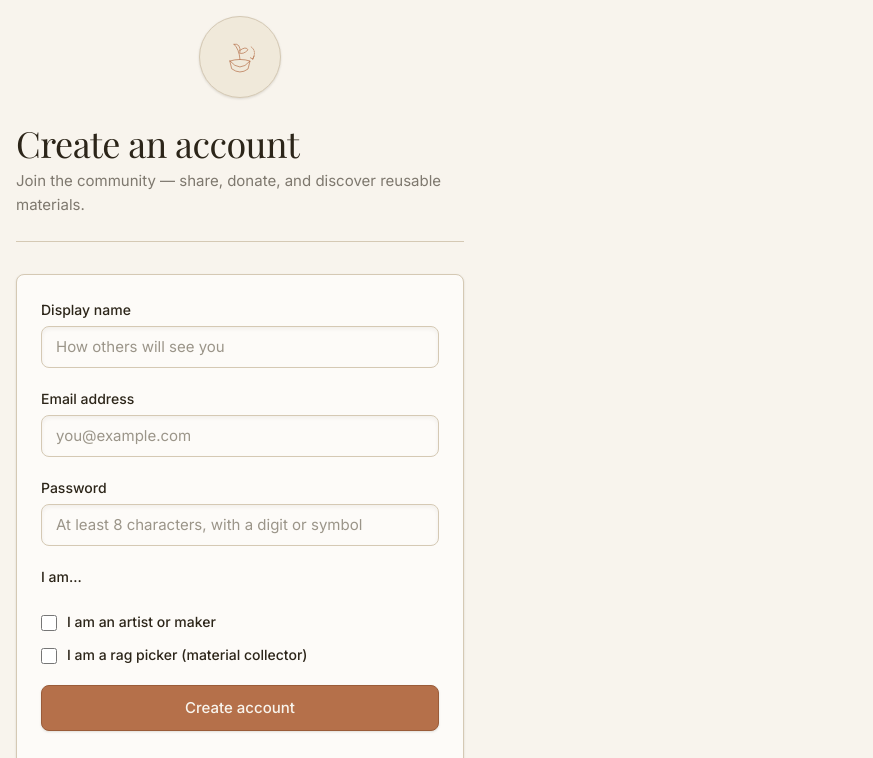
Test: RegisterPage › shows weak password error without hitting API
This screenshot has width=873, height=758.
In the field labelled "Display name": (240, 347) [41,326,439,368], type "Alice"
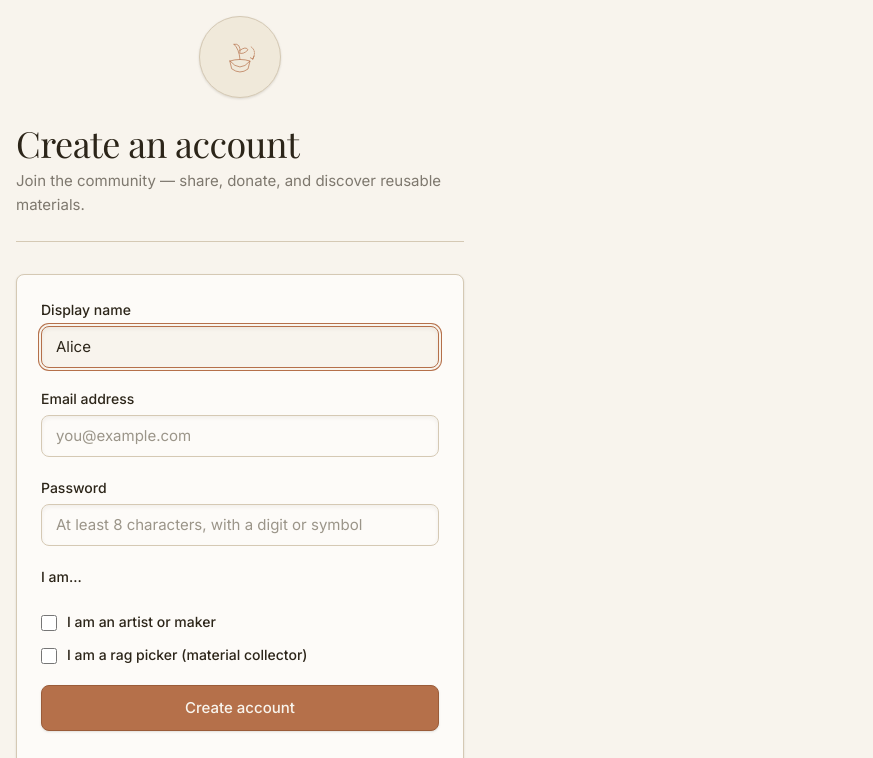
In the field labelled "Email address": (240, 436) [41,415,439,457], type "alice@example.com"
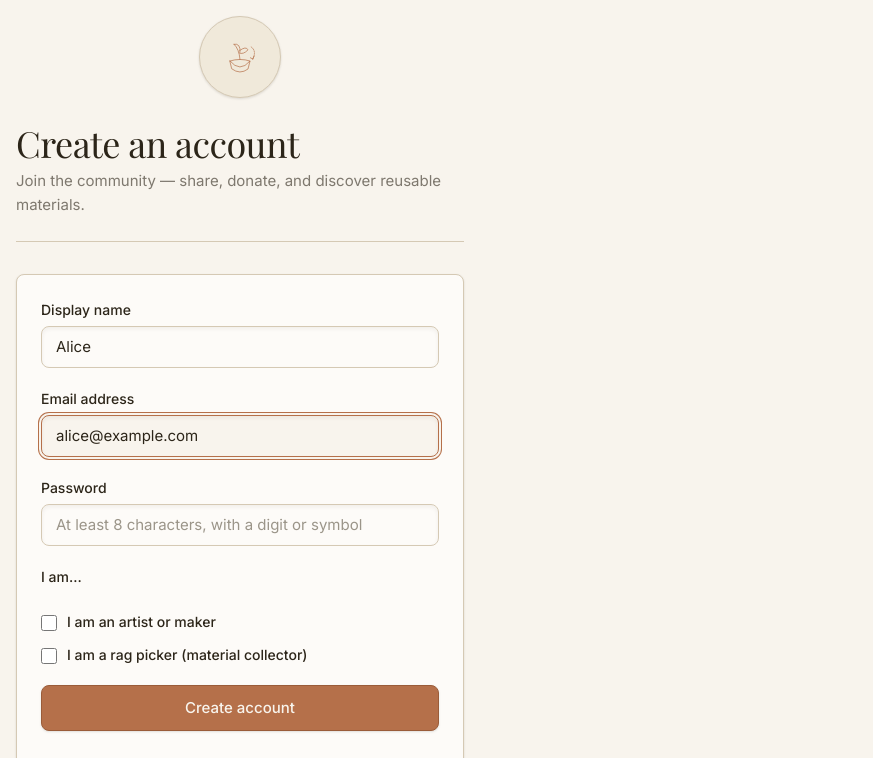
In the password field labelled "Password": (240, 525) [41,504,439,546], type "onlyletters"
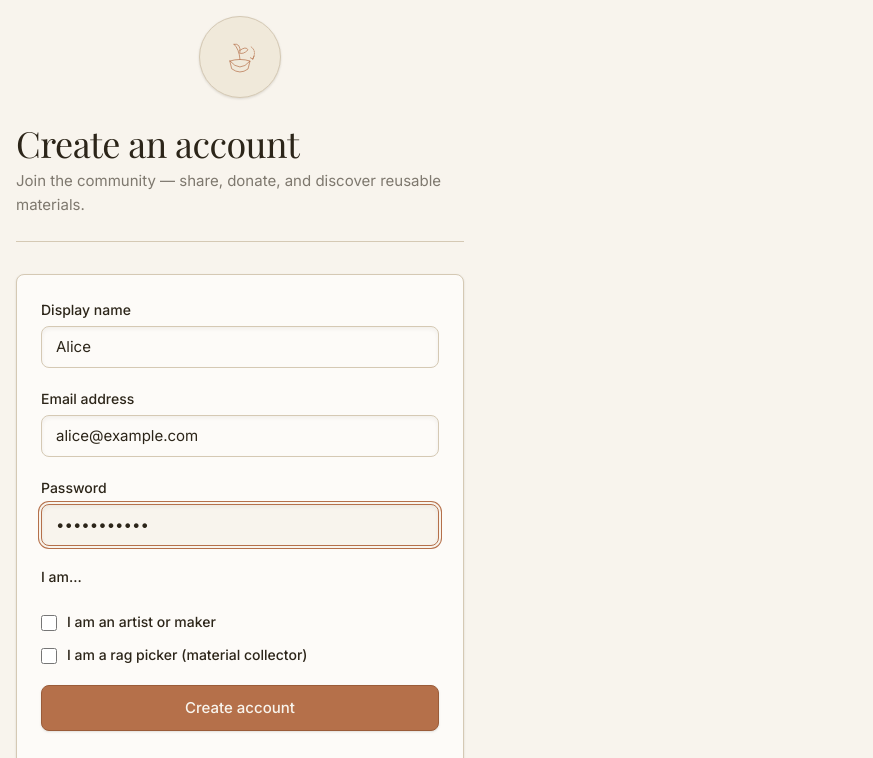
Click the button "Create account": (240, 708) [41,685,439,731]
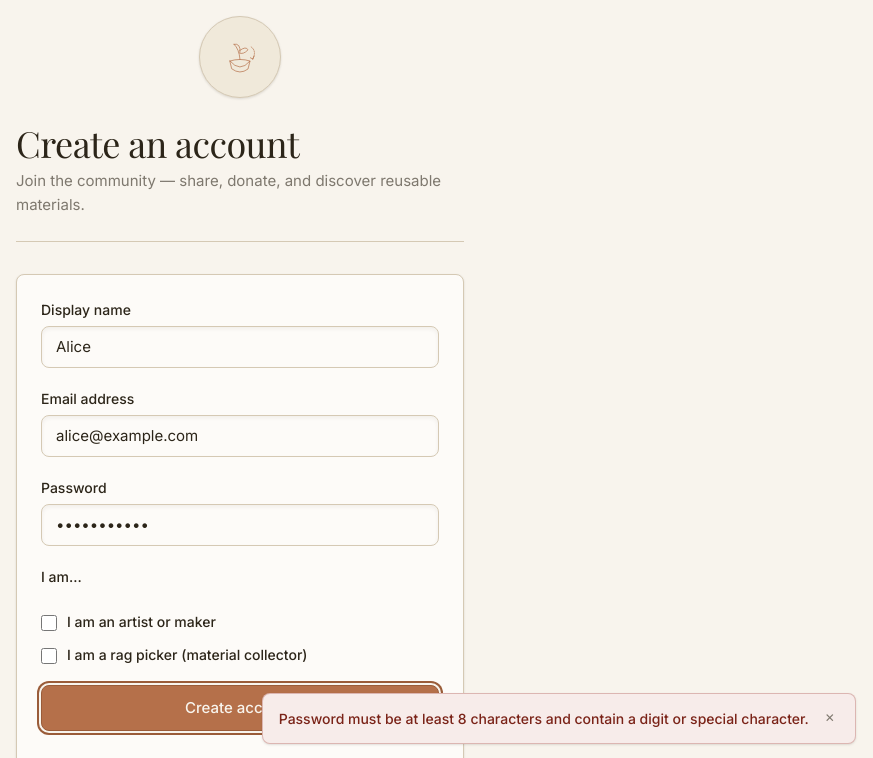
Expected: the text "digit or special character" is shown, [279,710,809,727]
